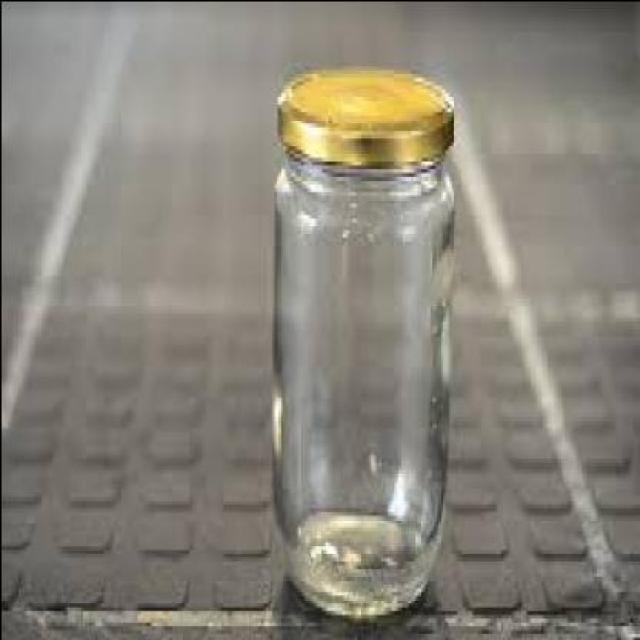GLASS: (270, 145, 448, 613)
METAL: (273, 65, 450, 164)
